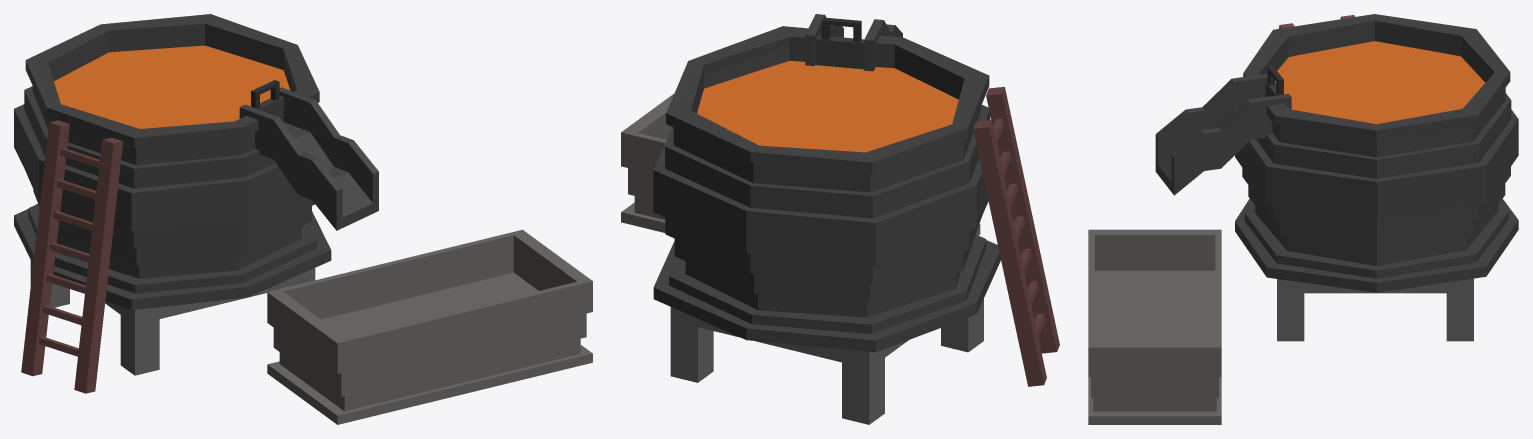
The model's file is boiler_level_2_all.fbx.
3 views of the same model, side by side, from view 1: azimuth 30°, elevation 25°; view 2: azimuth 150°, elevation 25°; view 3: azimuth 270°, elevation 25° (orthographic). The views are drawn at different scales.
Parts seen in each view (by area): view 1: Cube.012, Plane, Cube.010, Cube.008; view 2: Cube.012, Cube.010, Plane, Cube.008; view 3: Cube.012, Plane, Cube.008.
Boxes of the visible parts, left/top/right/bottom form: Cube.012: left=14, top=14, right=378, bottom=375; Plane: left=267, top=229, right=592, bottom=424; Cube.010: left=21, top=120, right=122, bottom=393; Cube.008: left=251, top=80, right=283, bottom=122; Cube.012: left=653, top=14, right=1000, bottom=424; Cube.010: left=973, top=86, right=1059, bottom=386; Plane: left=621, top=94, right=980, bottom=235; Cube.008: left=815, top=17, right=864, bottom=69; Cube.012: left=1155, top=14, right=1518, bottom=341; Plane: left=1088, top=229, right=1221, bottom=424; Cube.008: left=1265, top=66, right=1283, bottom=96.
Bounding box in the file's own units: 262 × 147 × 233.
